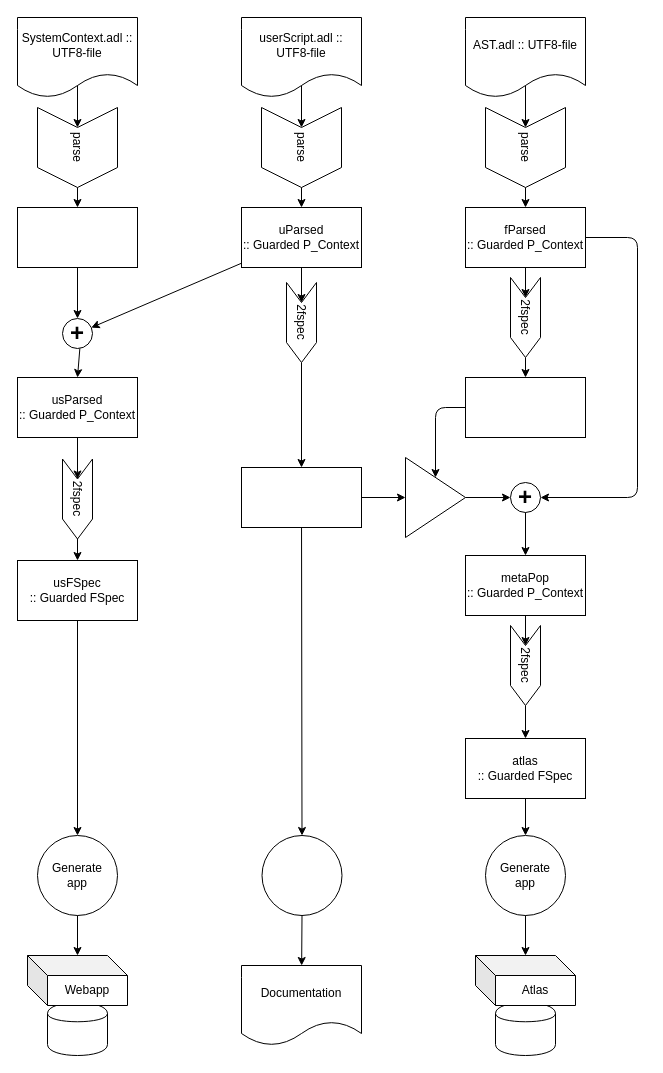
Image size: 663x1073. Some labels were removed from this diagram. The box of each missing label's shape, as (x1, y1, x2, y2) in pixels:
fFSpec :: Guarded FSpec: (464, 376, 586, 438)
Generate doc: (261, 834, 342, 916)
grind: (404, 456, 466, 538)
sParsed :: Guarded P_Context: (16, 206, 138, 268)
uFSpec :: Guarded FSpec: (240, 466, 362, 528)
